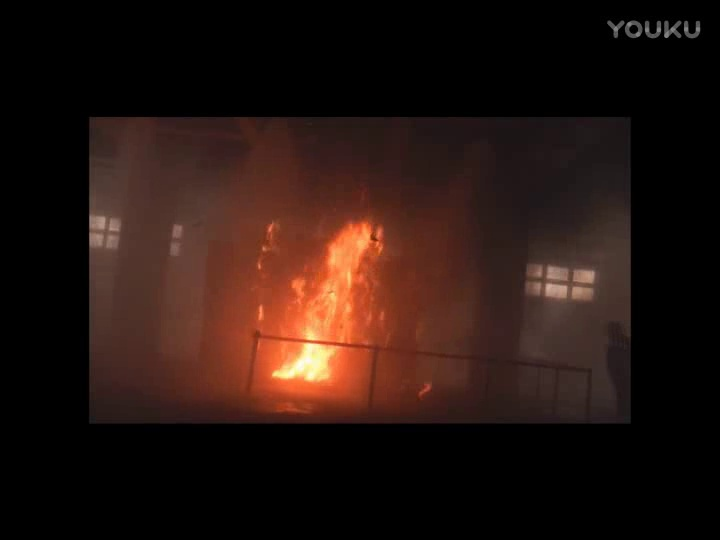fire: (274, 220, 374, 382)
